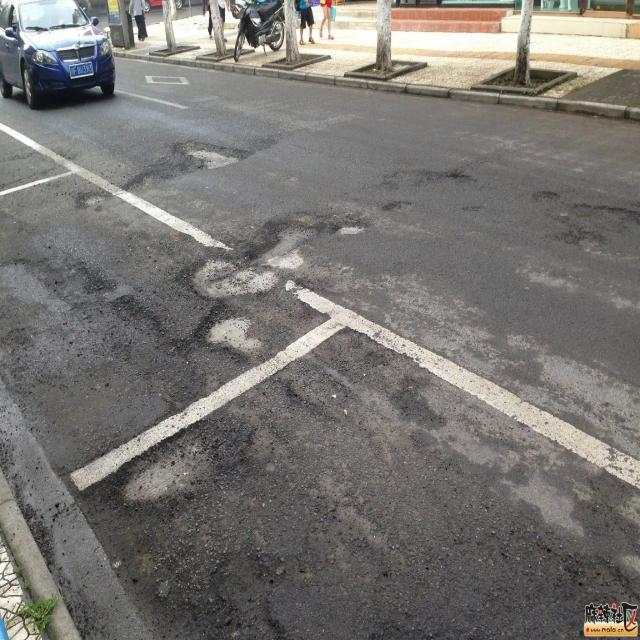Pothole: (188, 218, 318, 306), (118, 433, 219, 505), (212, 548, 289, 640), (196, 313, 272, 366), (565, 204, 637, 254), (170, 138, 256, 174), (70, 189, 110, 210), (529, 188, 561, 206), (331, 222, 364, 238)
